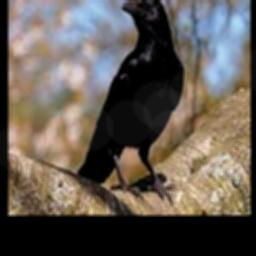Crow: (77, 0, 184, 201)
